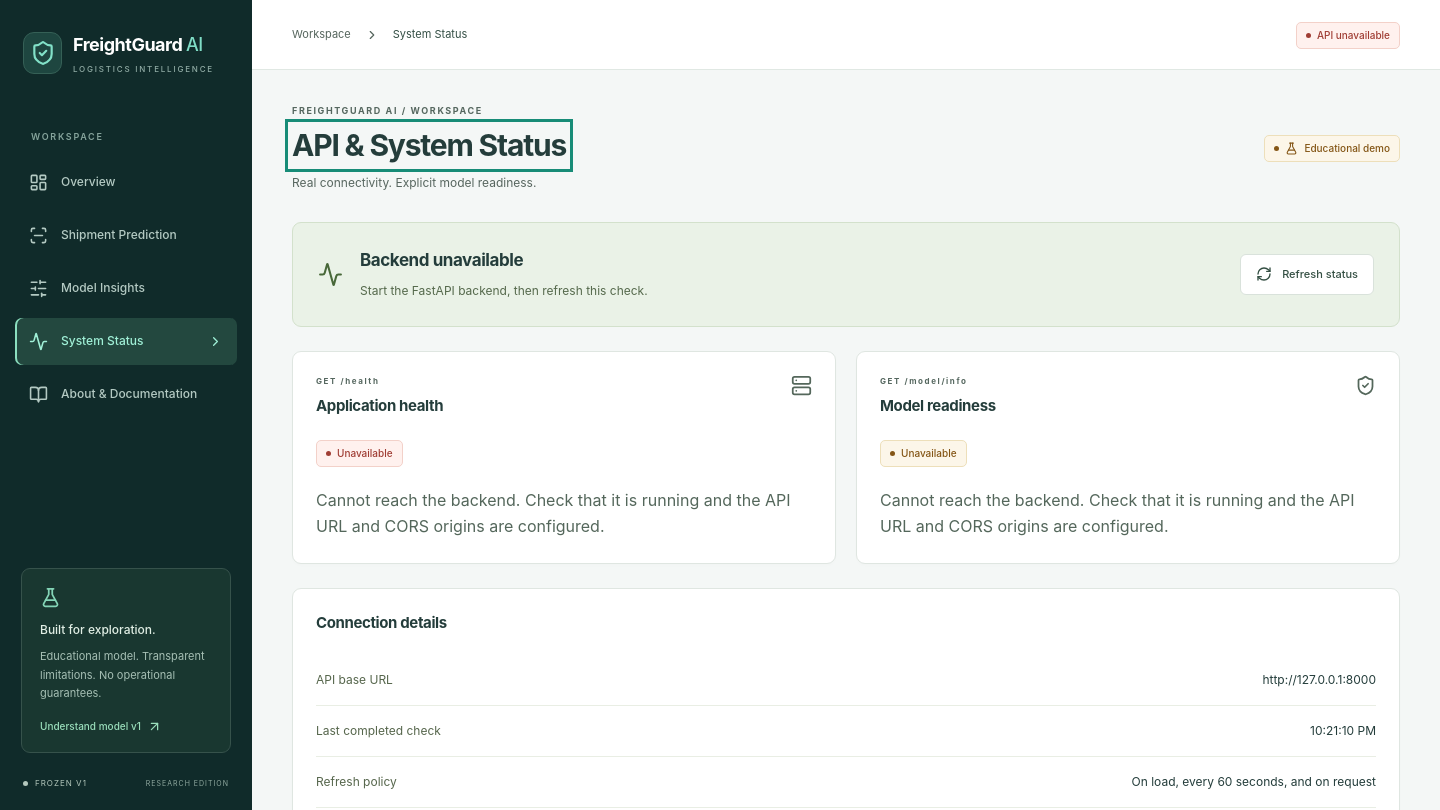
dashboard navigation and truthful status › distinguishes a disconnected backend from an unavailable model and can retry
Expected: the heading "Backend unavailable" is shown, 360,250 -> 523,270
Click the button "Refresh status": (1307, 274) 1240,254 -> 1374,295
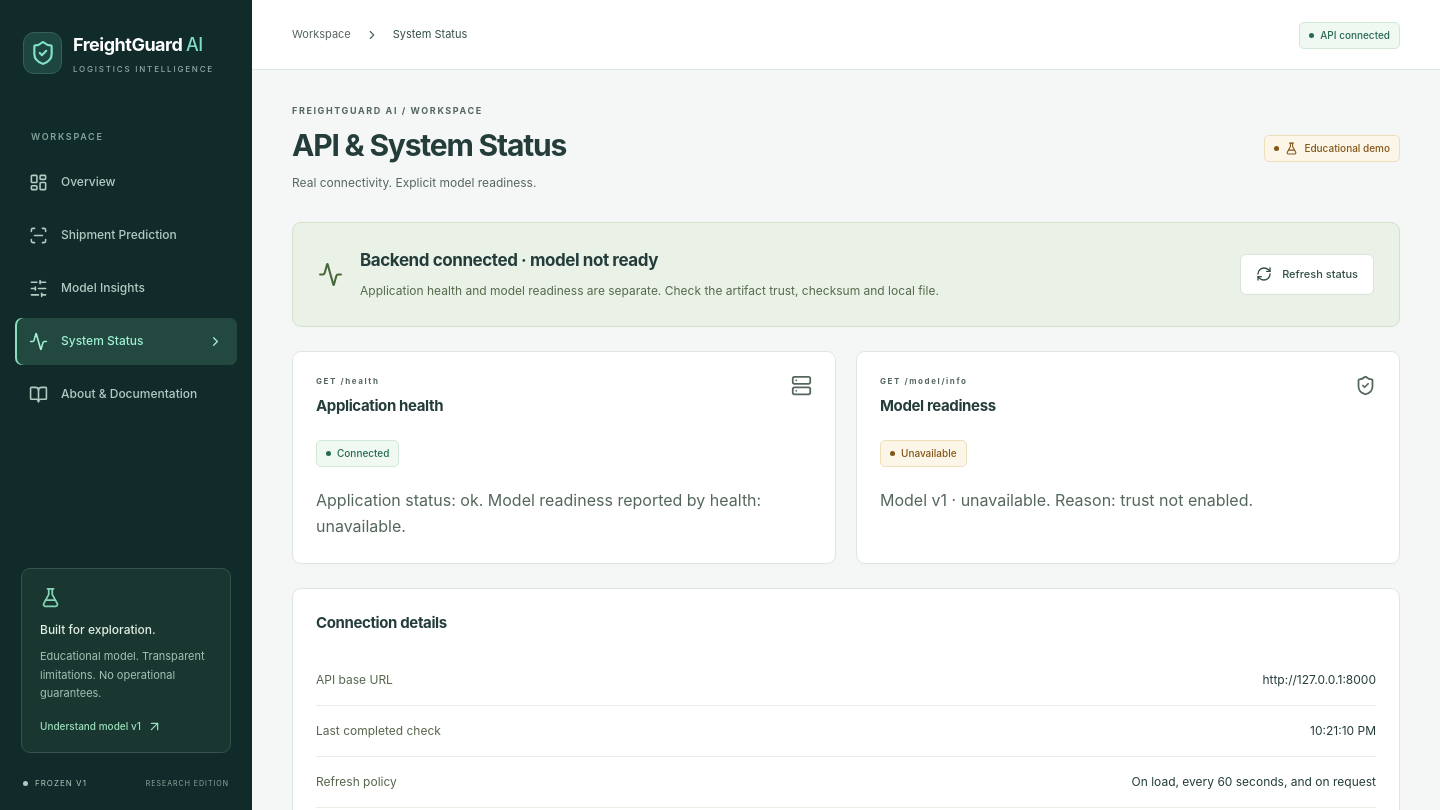
Expected: the heading "Backend connected · model not ready" is shown, 360,250 -> 658,270
Expected: the text "Model v1 · unavailable. Reason: trust not enabled." is shown, 880,490 -> 1253,510
